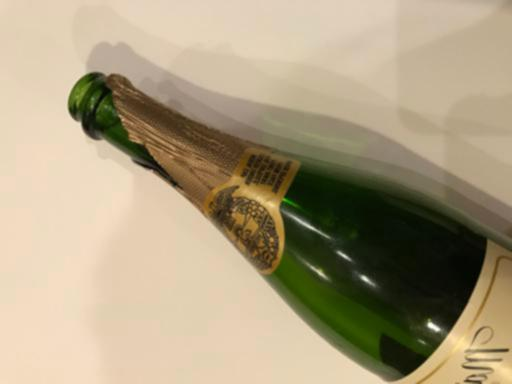alcohol: (67, 72, 511, 384)
glass: (67, 72, 511, 384)
sodocalcique: (67, 72, 511, 384)
